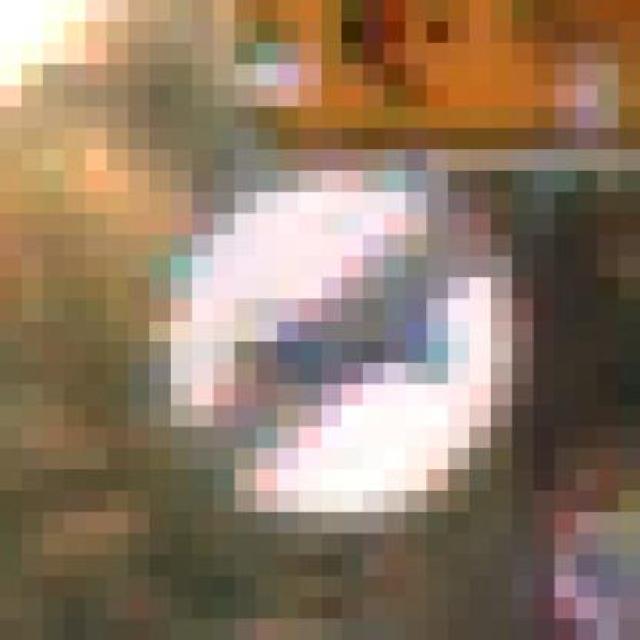No_Over_Taking: (106, 107, 534, 576)
